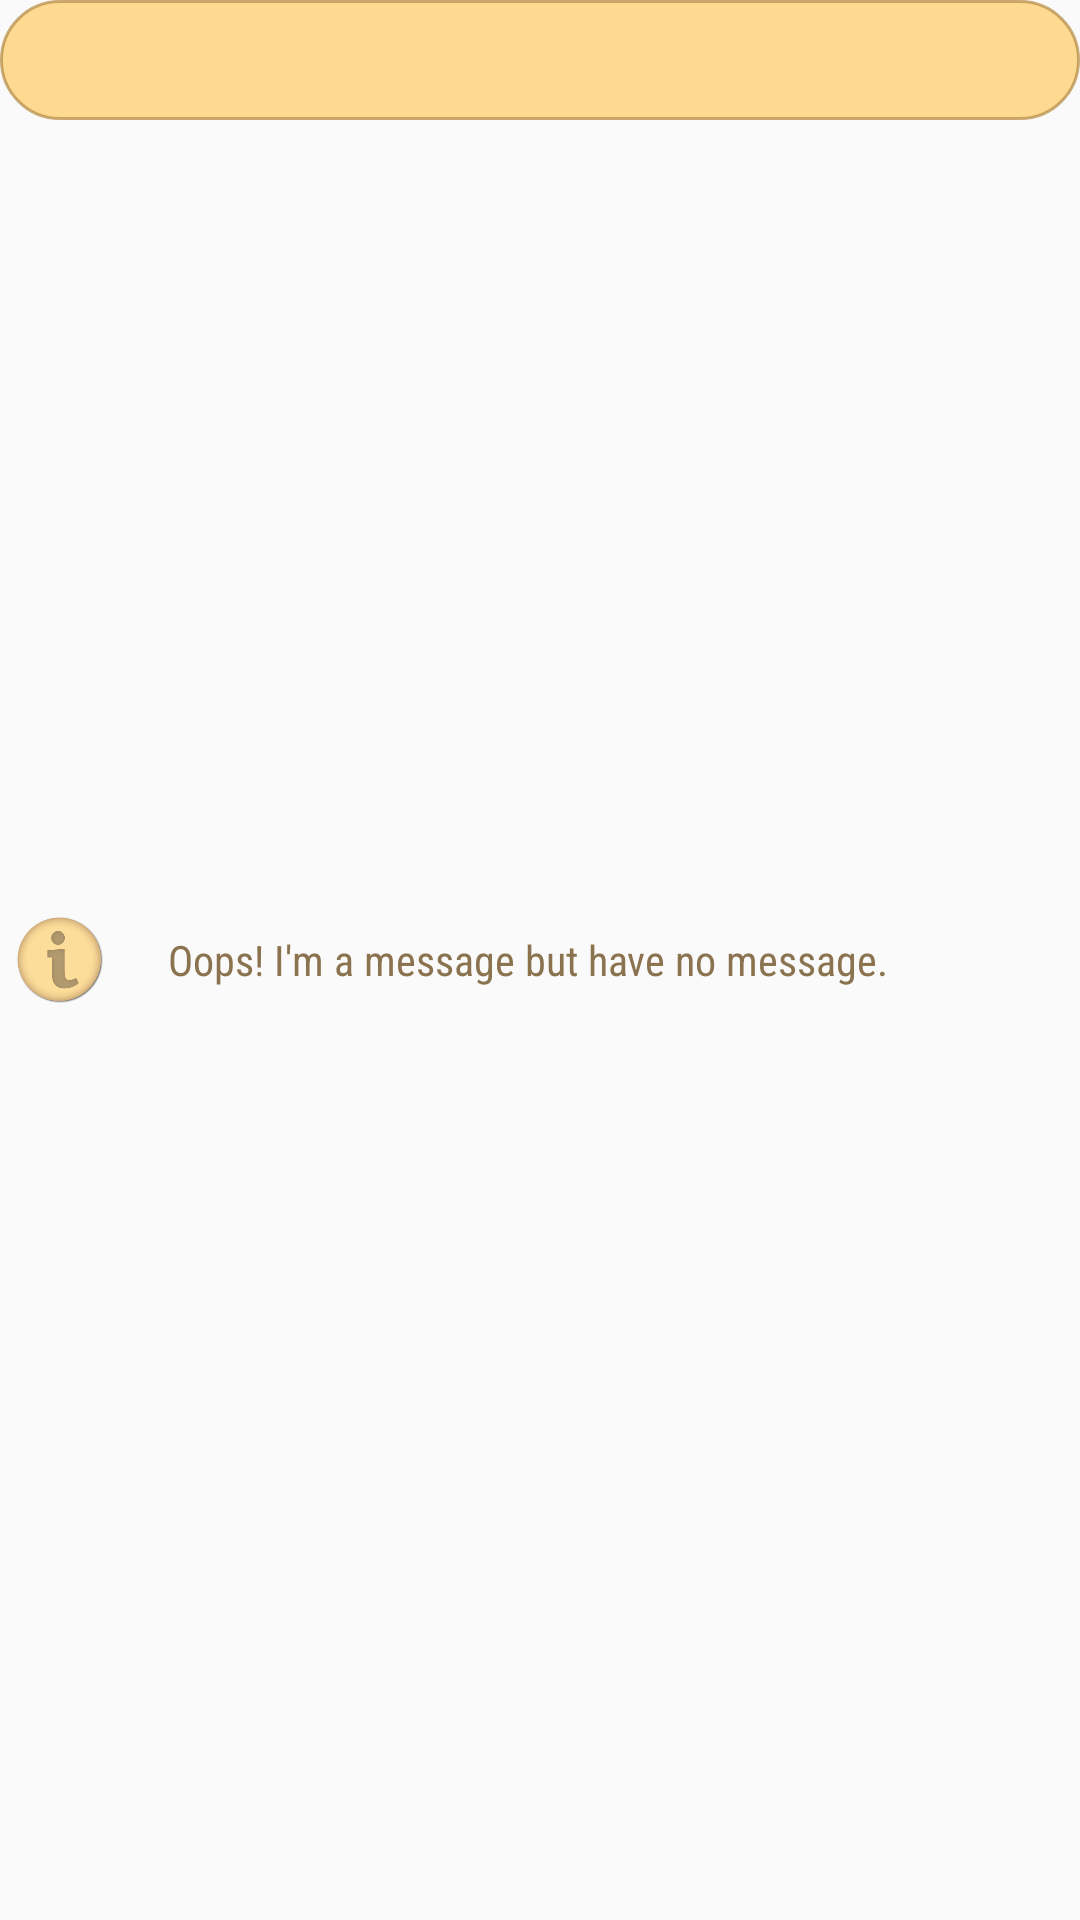

Screen size 1080x1920. Icon name, then its box in pixels as (x1, y1, x2, y2):
infooz: (17, 917, 102, 1003)
